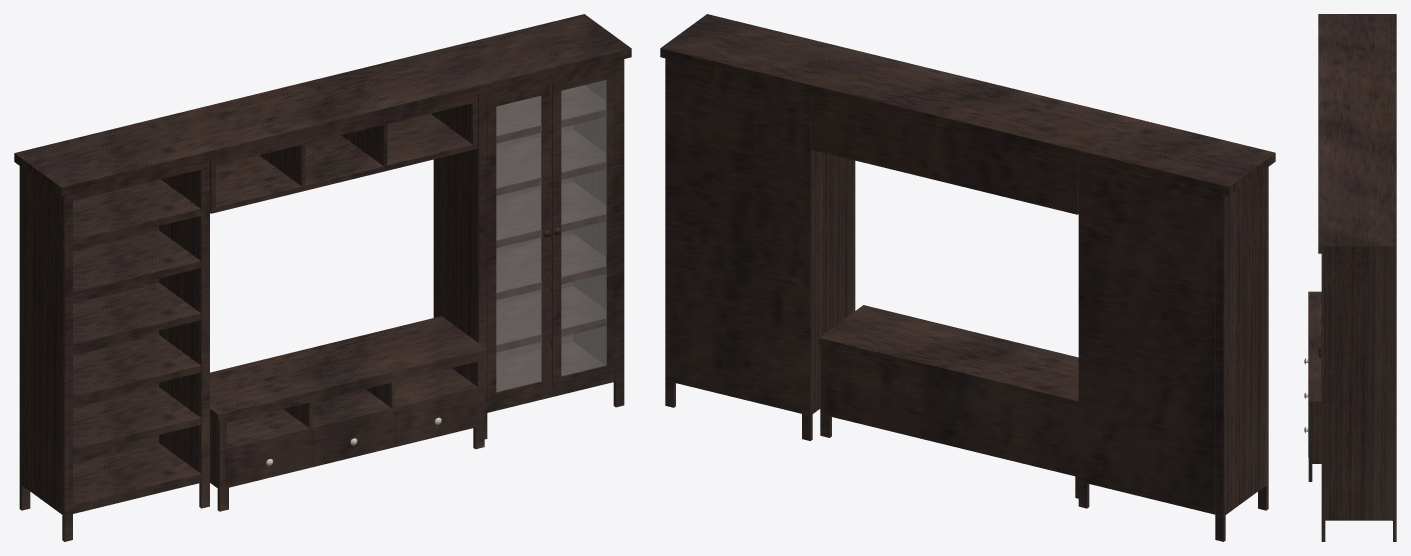
Rendered from IKEA-TV_Storage_combination-3D.obj.
3 renders of one model, left to right at view 1: azimuth 30°, elevation 25°; view 2: azimuth 150°, elevation 25°; view 3: azimuth 270°, elevation 25°, orthographic. The views are drawn at different scales.
Visible parts, largest first — view 1: Box001, Line002, Line001, Box023, Box024, Box025, Line005, Rectangle002, Line006, Line004, Line003, Box007 (+16 smaller); view 2: Box014, Box002, Box001, Line002, Box027, Line001, Box026, Box023; view 3: Line001, Box001, Box023, Rectangle001.
Part boxes in pixels (x1,y1,x2,y2): Box001: [14, 14, 631, 196]; Line002: [19, 160, 209, 516]; Line001: [434, 59, 624, 413]; Box023: [210, 316, 486, 421]; Box024: [496, 96, 541, 391]; Box025: [561, 80, 606, 375]; Line005: [210, 95, 477, 213]; Rectangle002: [226, 391, 478, 484]; Line006: [226, 368, 477, 464]; Line004: [551, 68, 615, 387]; Line003: [487, 84, 550, 403]; Box007: [73, 443, 200, 513]; Box014: [665, 58, 813, 415]; Box002: [1087, 170, 1215, 514]; Box001: [660, 14, 1275, 195]; Line002: [1078, 159, 1268, 516]; Box027: [820, 345, 1078, 476]; Line001: [665, 59, 855, 415]; Box026: [811, 94, 1078, 214]; Box023: [818, 305, 1078, 408]; Line001: [1321, 253, 1396, 520]; Box001: [1318, 14, 1396, 253]; Box023: [1308, 291, 1321, 406]; Rectangle001: [1308, 407, 1321, 463].
Bounding box in the file's own units: 3290 × 1970 × 555.
3 materials, 1 textured.
